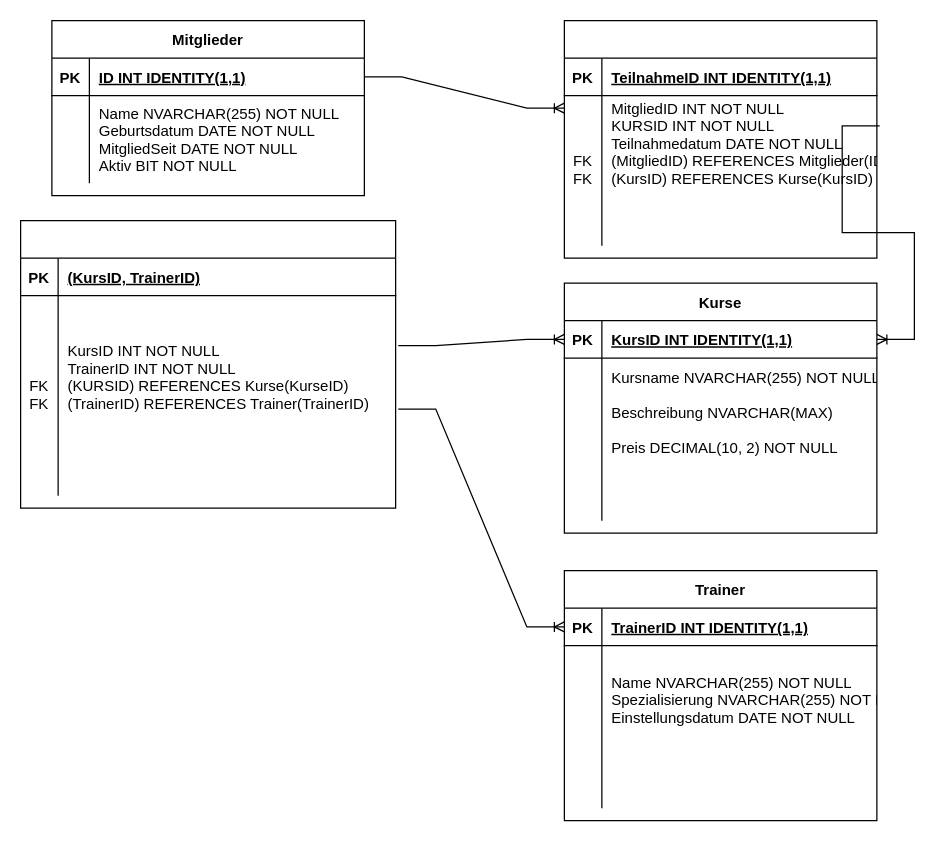
Image size: 935x841. Some labels were removed from this diagram. The box of each missing label's shape, as (x1, y1, x2, y2) in pixels:
Kurse_Trainer: (19, 219, 396, 508)
Teilnahmen: (563, 19, 877, 258)
